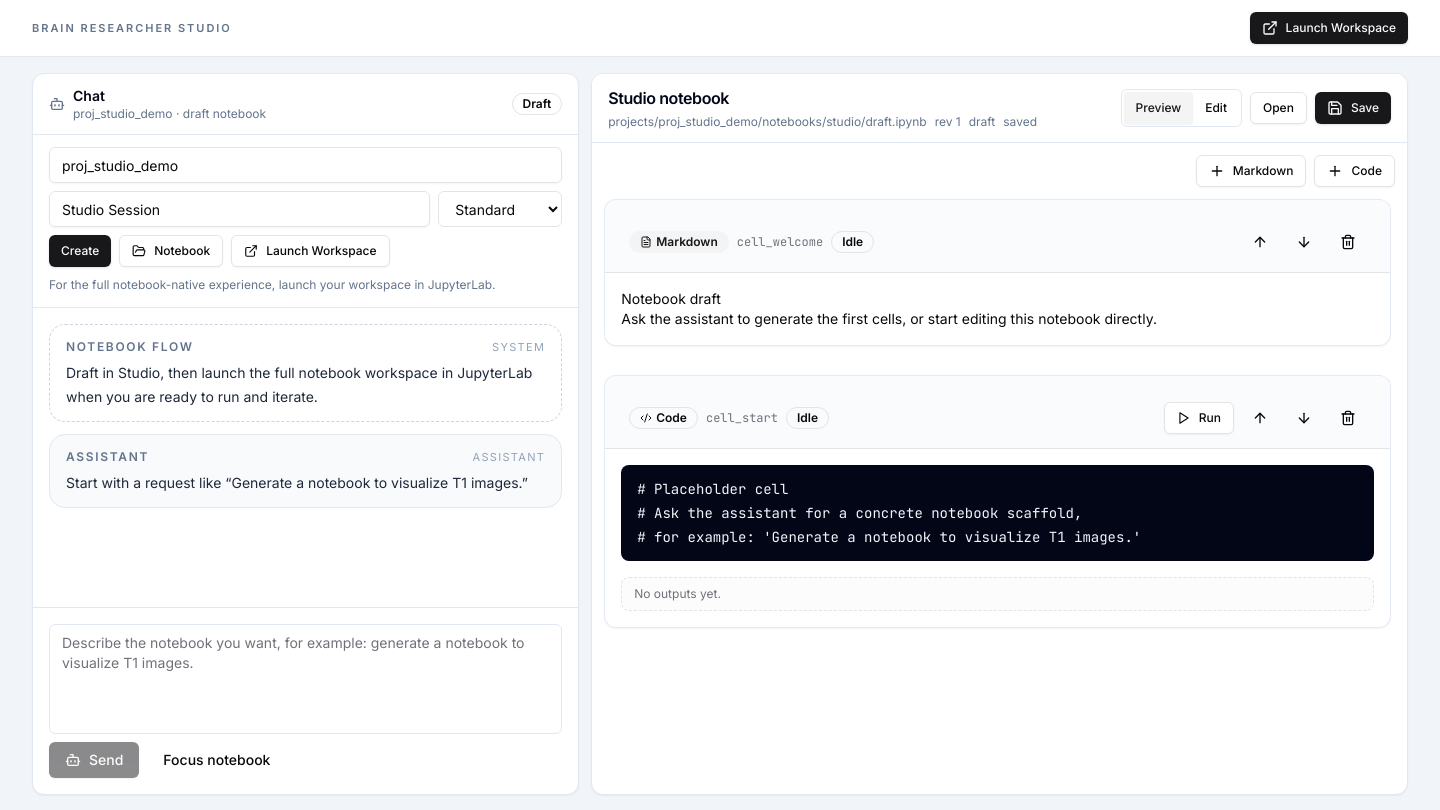
Scenario: StudioNotebookShell › creates a Studio session, sends the assistant turn, and renders returned notebook cells
Check: the number of buttons "Run" is 1, box [1164,402,1234,434]
Replace the text in the text box with placeholder "Describe the notebook you want, for example: generate a notebook to visualize T1 images." with "请创建一个 markdown cell 写研究目标，再加一个 python cell 打印 hello" at (306,679), box [49,624,562,734]
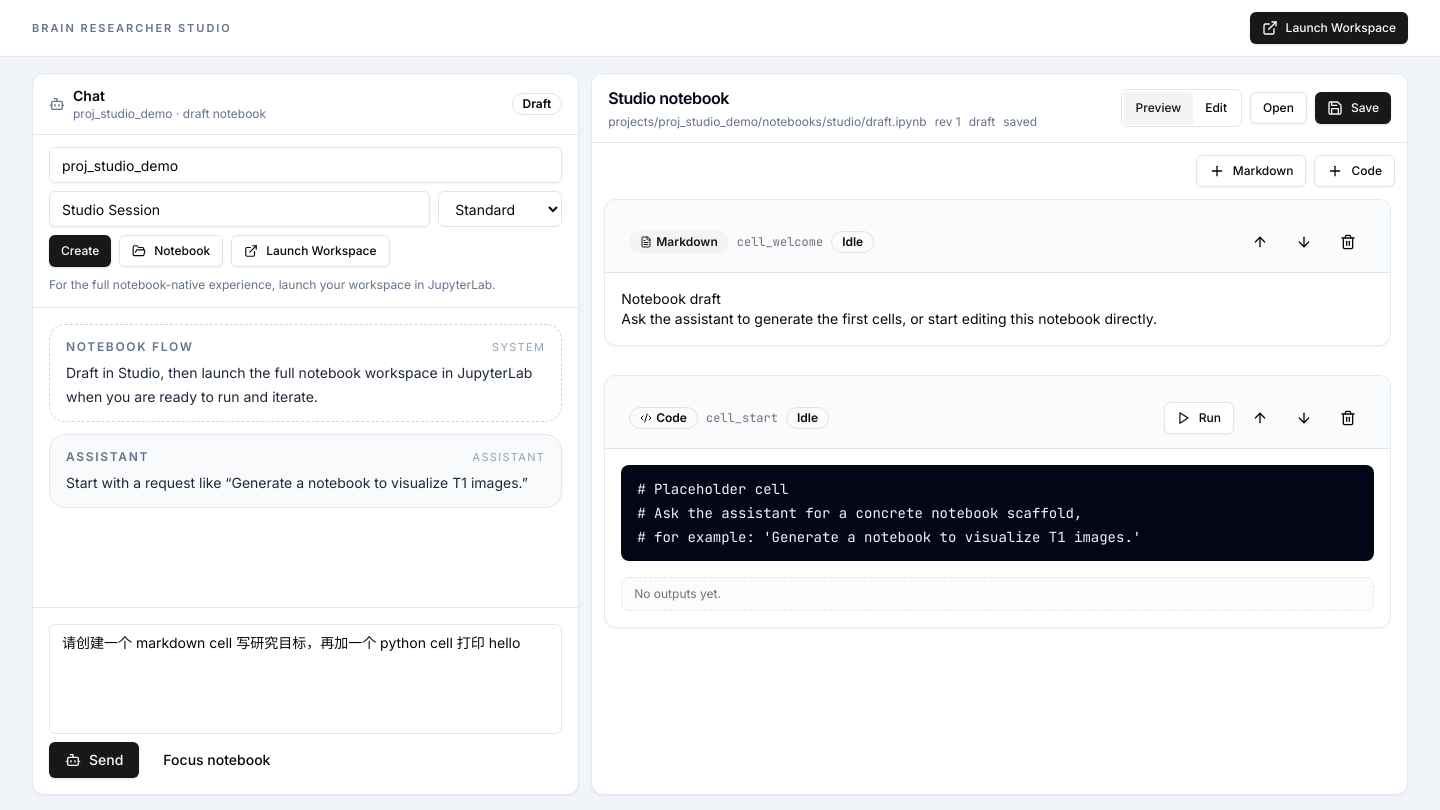
Click the button "Send" at (94,760), box [49,742,139,778]
(page scrolled)
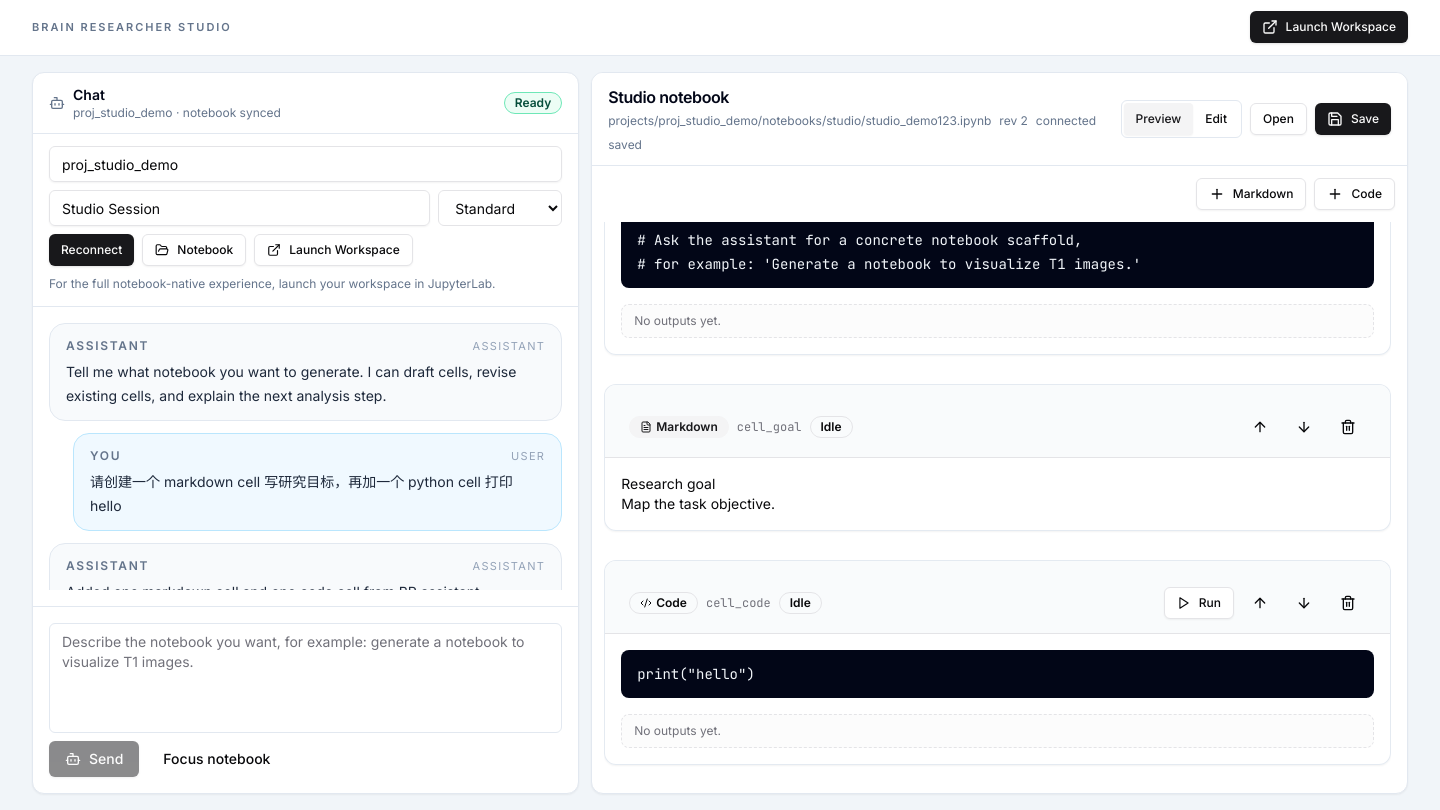
Check: the heading "Research goal" is shown, box [621,475,715,492]
Check: the text "print(\"hello\")" is shown, box [621,650,1374,698]
